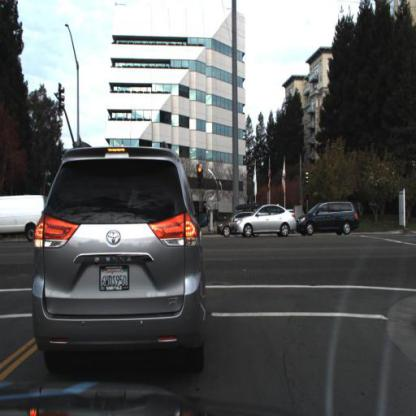car: (30, 139, 210, 373), (295, 199, 359, 237), (0, 194, 50, 242), (236, 204, 296, 237), (217, 209, 262, 238)
trafficLight-Red: (195, 161, 203, 188)
